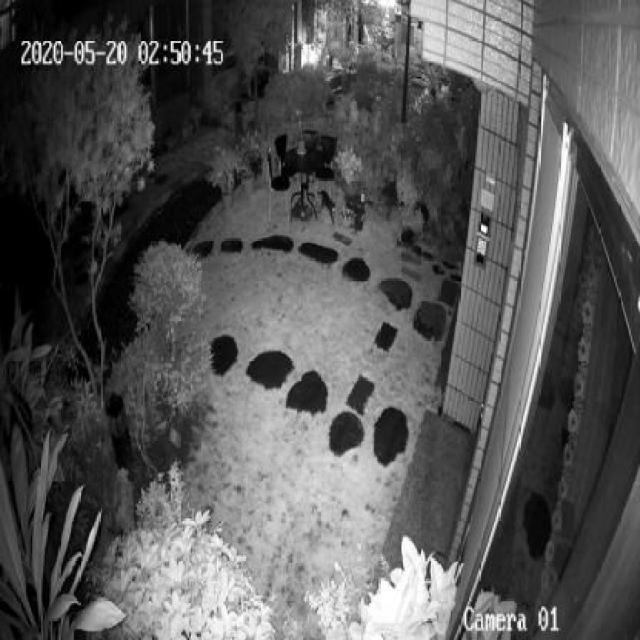animals: (316, 190, 338, 230)
